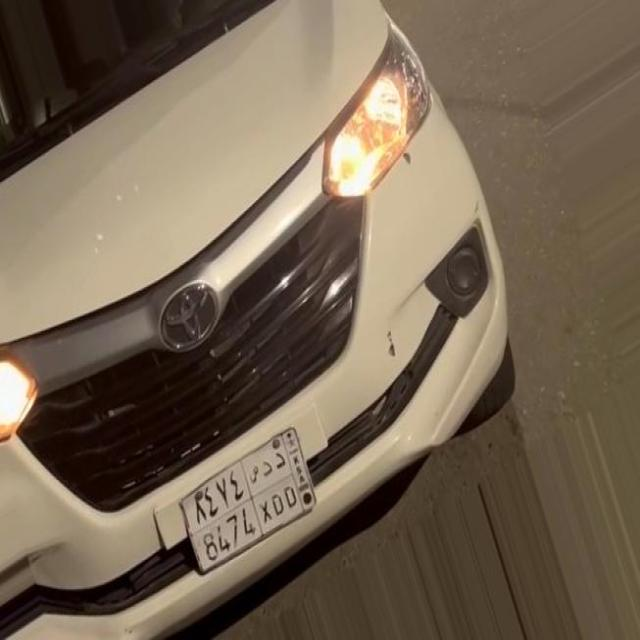Car-plate: (169, 397, 351, 593)
